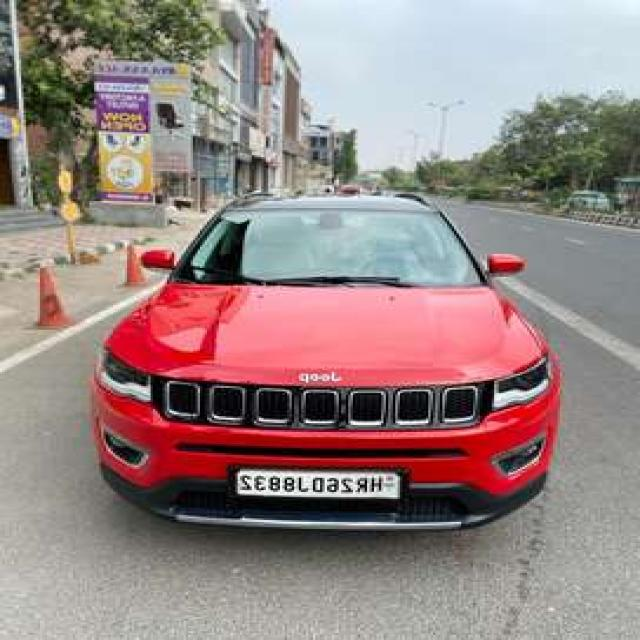license_plate: (219, 462, 413, 508)
